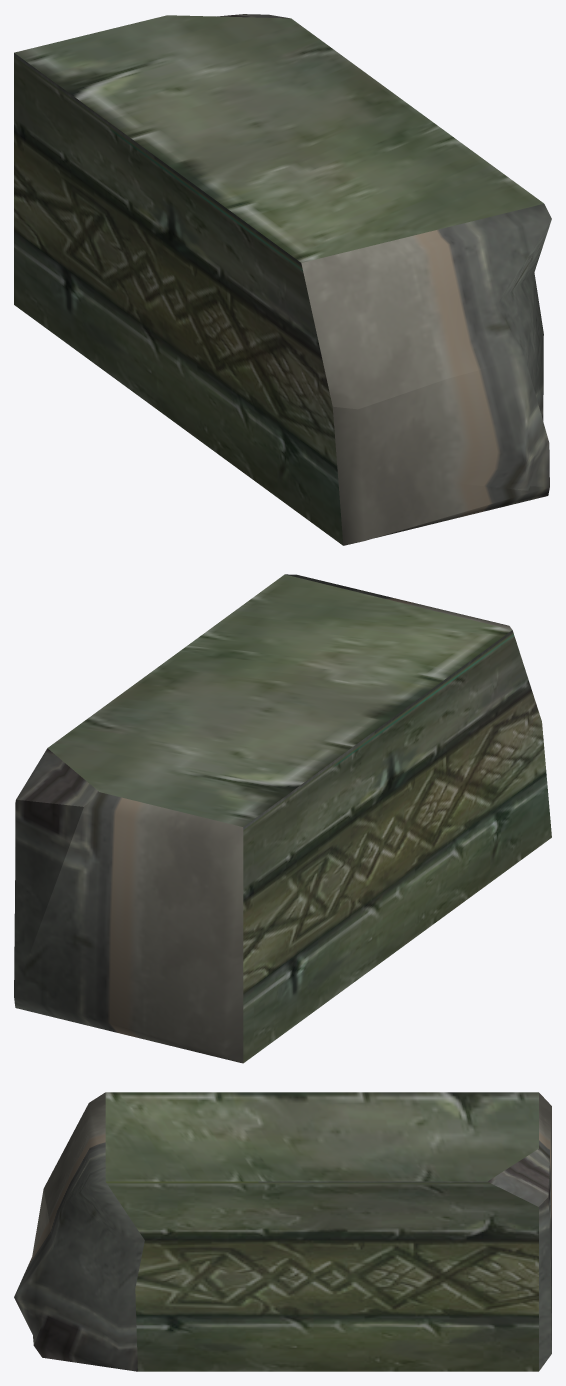
Rendered from F_waiqiang0013.fbx.
3 views of the same model, one above another, from view 1: azimuth 30°, elevation 25°; view 2: azimuth 150°, elevation 25°; view 3: azimuth 270°, elevation 25° (orthographic). The views are drawn at different scales.
Parts seen in each view (by area): view 1: F_waiqiang0013; view 2: F_waiqiang0013; view 3: F_waiqiang0013.
Boxes of the visible parts, left/top/right/bottom form: F_waiqiang0013: left=14, top=14, right=551, bottom=545; F_waiqiang0013: left=14, top=574, right=551, bottom=1063; F_waiqiang0013: left=14, top=1092, right=551, bottom=1371.
Bounding box in the file's own units: 21.41 × 20.51 × 52.6.
